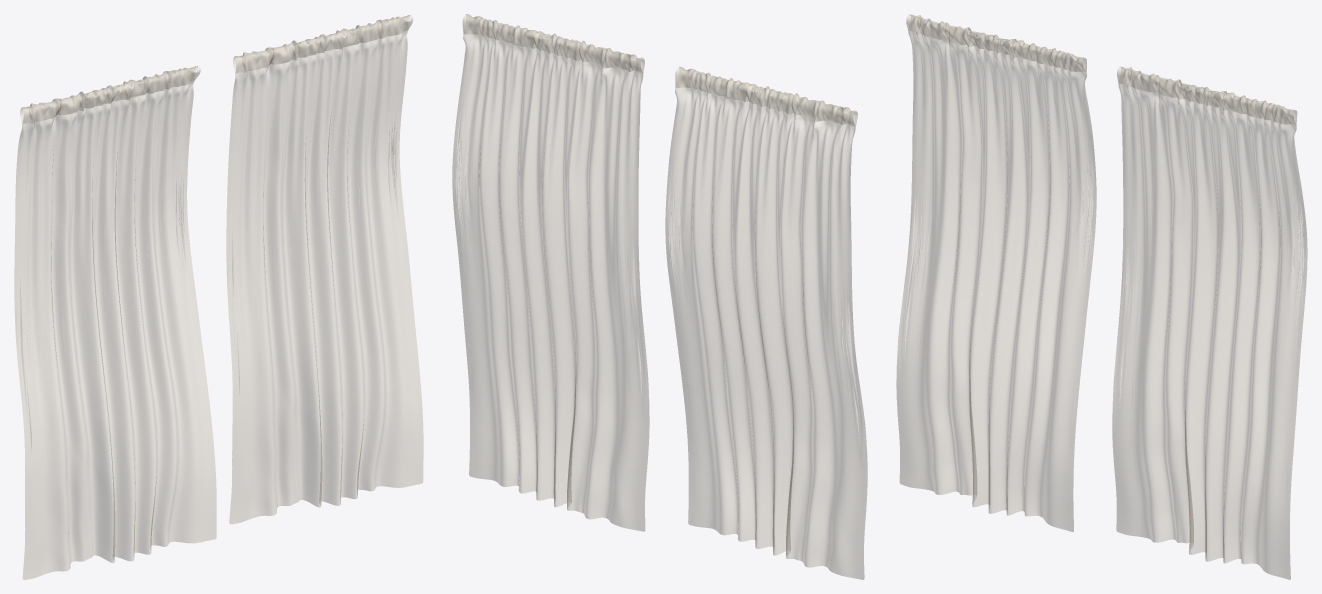
The model's file is curtain-one.glb.
3 views of the same model, side by side, from view 1: azimuth 30°, elevation 25°; view 2: azimuth 150°, elevation 25°; view 3: azimuth 330°, elevation 25° (orthographic).
Visible parts, largest first — view 1: SHEER.002; view 2: SHEER.002; view 3: SHEER.002.
Part boxes in pixels (x1,y1,x2,y2): SHEER.002: (14,14,423,579); SHEER.002: (452,14,867,579); SHEER.002: (896,14,1307,579).
Bounding box in the file's own units: 1.41 × 1.6 × 0.1743.
1 material, 1 textured.
